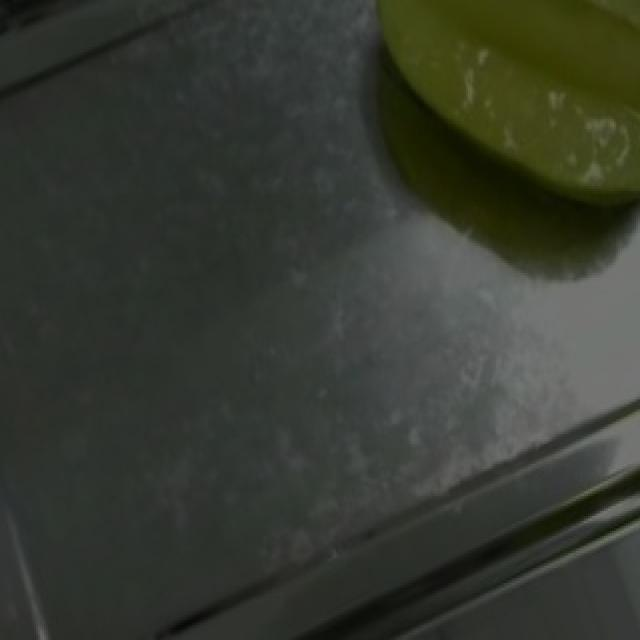fruit: (348, 0, 638, 251)
